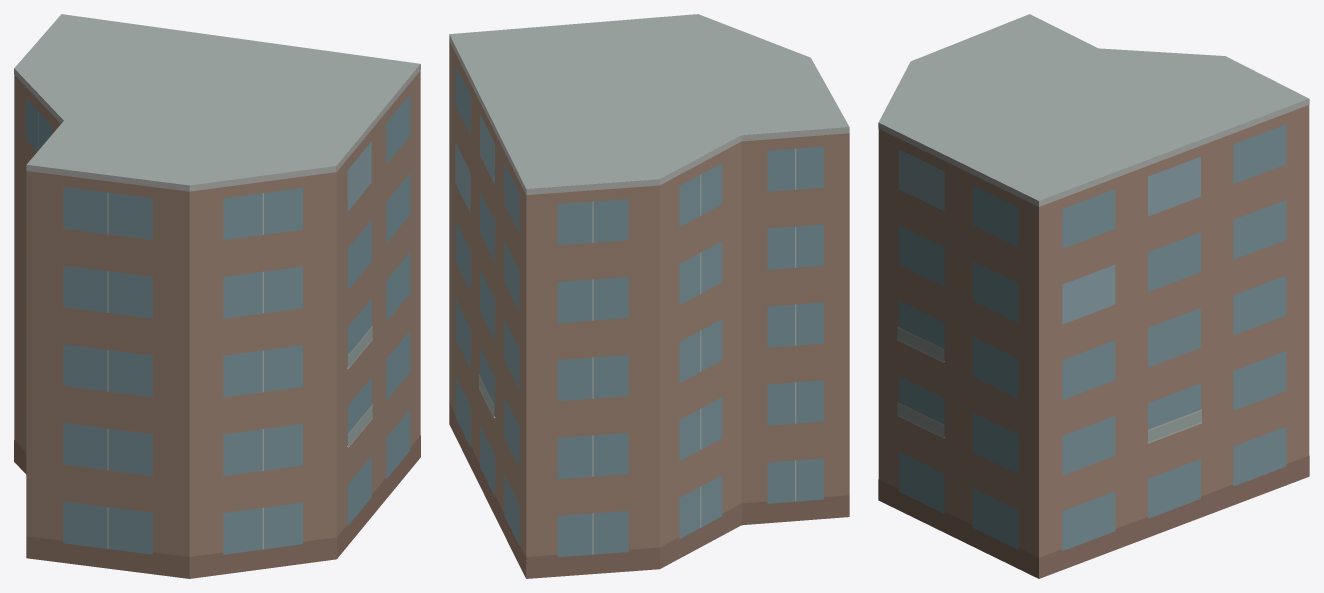
Rendered from survey-upis-32499904.glb.
3 renders of one model, left to right at view 1: azimuth 30°, elevation 25°; view 2: azimuth 150°, elevation 25°; view 3: azimuth 270°, elevation 25°, orthographic. The views are drawn at different scales.
Visible parts, largest first — view 1: survey-upis-32499904.tmp; view 2: survey-upis-32499904.tmp; view 3: survey-upis-32499904.tmp.
Boxes of the visible parts, box(x1,y1,x2,y2) form: survey-upis-32499904.tmp: box(14, 14, 420, 578); survey-upis-32499904.tmp: box(449, 14, 849, 578); survey-upis-32499904.tmp: box(878, 14, 1309, 578).
Size of the model in its own units: 16.47 by 15.5 by 16.03.
